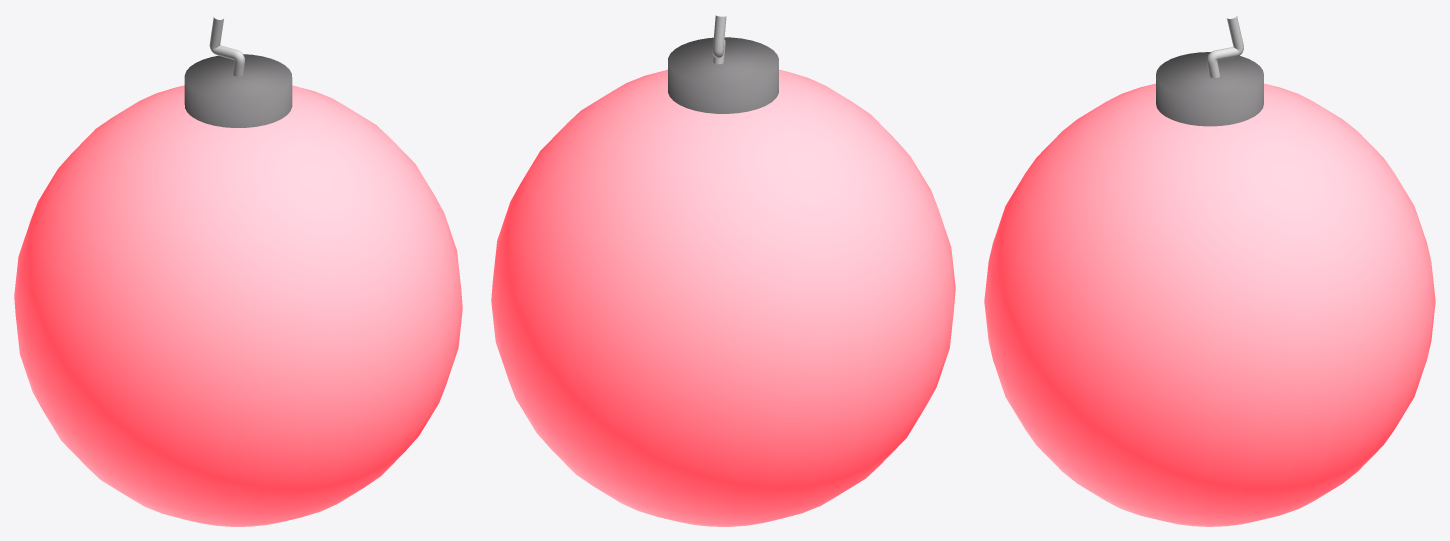
Rendered from bomb.glb.
3 views of the same model, side by side, from view 1: azimuth 30°, elevation 25°; view 2: azimuth 150°, elevation 25°; view 3: azimuth 270°, elevation 25° (orthographic). The views are drawn at different scales.
Visible parts, largest first — view 1: Sphere, Cylinder, Cube; view 2: Sphere, Cylinder, Cube; view 3: Sphere, Cylinder, Cube.
Boxes of the visible parts, box(x1,y1,x2,y2) form: Sphere: box(14, 85, 462, 526); Cylinder: box(184, 54, 292, 127); Cube: box(209, 17, 244, 76); Sphere: box(491, 69, 955, 526); Cylinder: box(668, 37, 778, 113); Cube: box(712, 15, 726, 64); Sphere: box(984, 83, 1435, 526); Cylinder: box(1156, 52, 1263, 126); Cube: box(1206, 16, 1243, 77).
Size of the model in its own units: 1 by 1.19 by 1.
